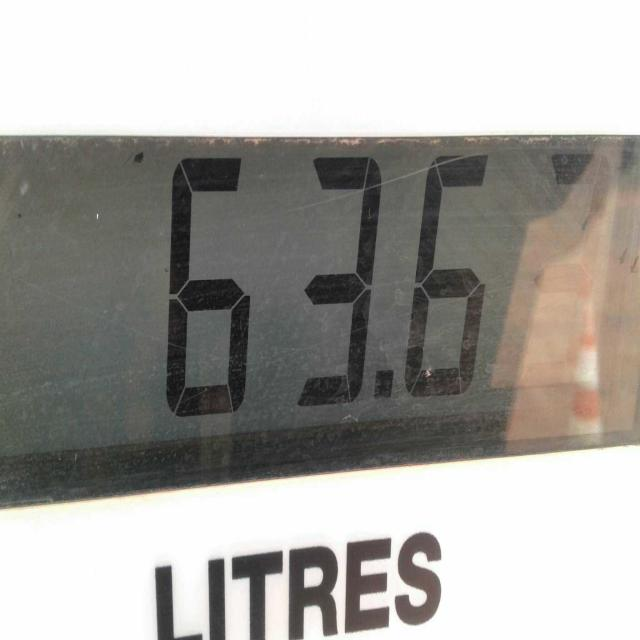.: (361, 353, 405, 428)
3: (289, 130, 380, 412)
6: (157, 145, 281, 443), (401, 137, 506, 447)
